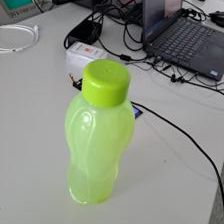bottle: (62, 59, 135, 205)
